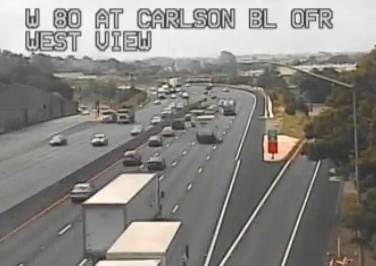car: (70, 182, 94, 201), (122, 150, 140, 166), (147, 157, 164, 169), (147, 135, 162, 147)
small-truck: (195, 115, 215, 142)
truck: (80, 172, 160, 256)
